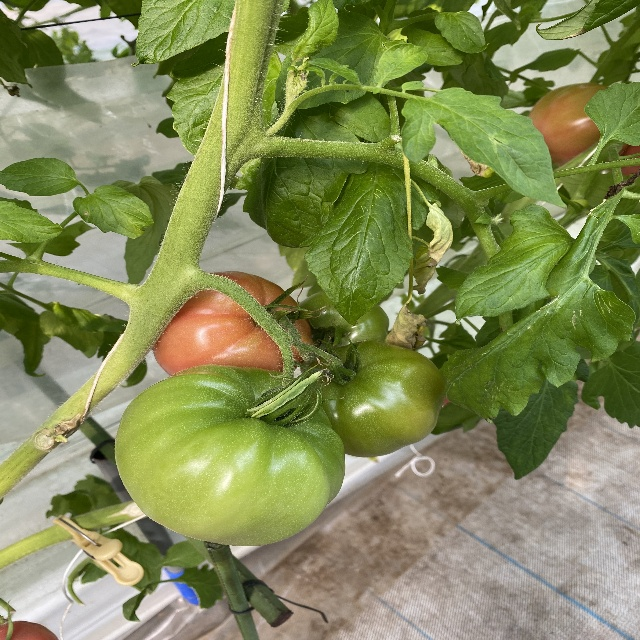b_green: (114, 363, 347, 546), (301, 341, 446, 458), (299, 292, 389, 348)
b_half_ripened: (152, 271, 317, 375), (528, 82, 607, 168)
